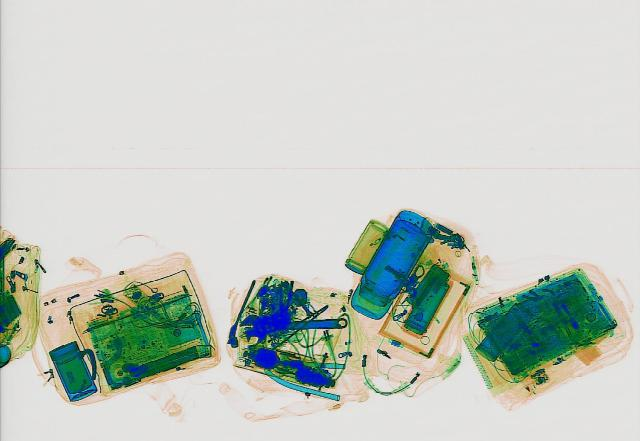Wrench: (238, 308, 348, 336)
